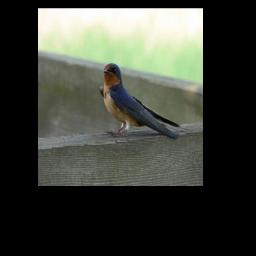Swallow: (99, 61, 195, 141)
